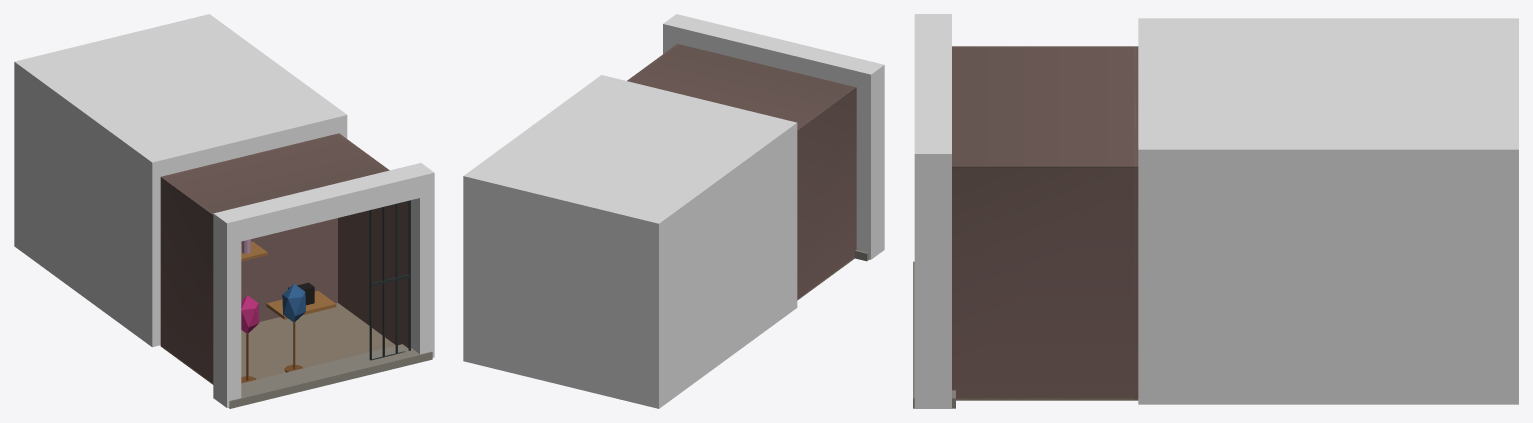
The model's file is tret_tiem_may_40.glb.
The picture shows the model from 3 angles, left to right: view 1: azimuth 30°, elevation 25°; view 2: azimuth 150°, elevation 25°; view 3: azimuth 270°, elevation 25°; orthographic projection. The views are drawn at different scales.
Parts seen in each view (by area): view 1: tret_tiem_may_40; view 2: tret_tiem_may_40; view 3: tret_tiem_may_40.
Boxes of the visible parts, x1=… form: tret_tiem_may_40: x1=14, y1=14, x2=434, y2=408; tret_tiem_may_40: x1=463, y1=14, x2=884, y2=408; tret_tiem_may_40: x1=913, y1=14, x2=1518, y2=408.
Bounding box in the file's own units: 4 × 3.42 × 7.32.
